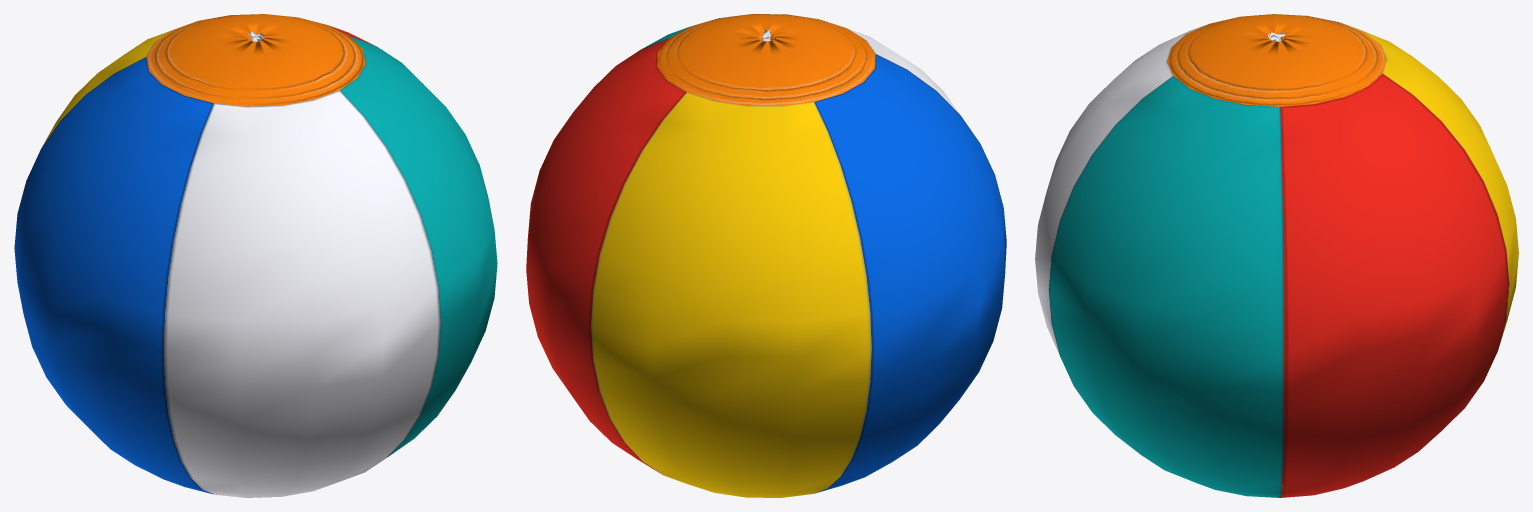
File: ball.fbx
3 views of the same model, side by side, from view 1: azimuth 30°, elevation 25°; view 2: azimuth 150°, elevation 25°; view 3: azimuth 270°, elevation 25° (orthographic).
Parts seen in each view (by area): view 1: node_id53; view 2: node_id53; view 3: node_id53.
Part boxes in pixels (x1=…): node_id53: x1=14, y1=14, x2=497, y2=497; node_id53: x1=526, y1=14, x2=1006, y2=497; node_id53: x1=1035, y1=14, x2=1518, y2=497.
Bounding box in the file's own units: 40.02 × 40.36 × 40.02.
